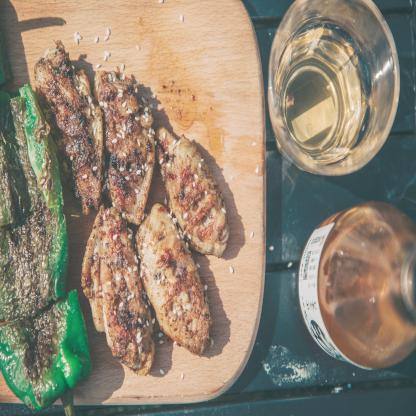Carne: (32, 40, 106, 217), (136, 201, 210, 354), (87, 206, 154, 374), (158, 123, 228, 257), (97, 70, 153, 218)
